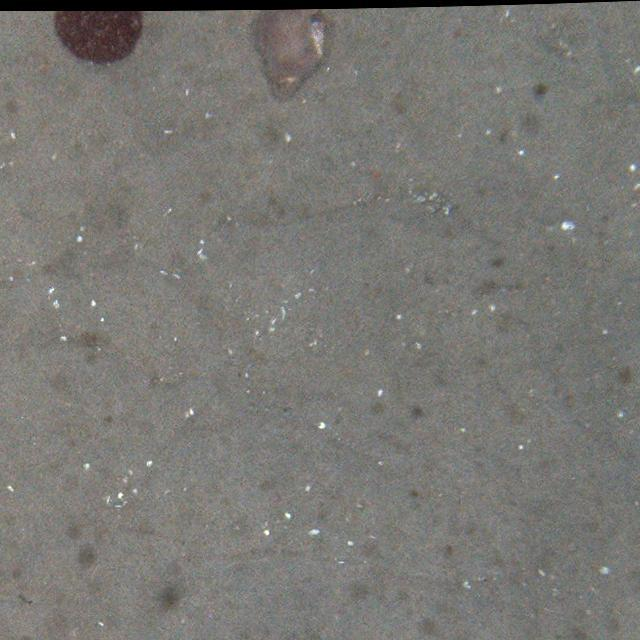flatfish: (254, 9, 328, 104)
